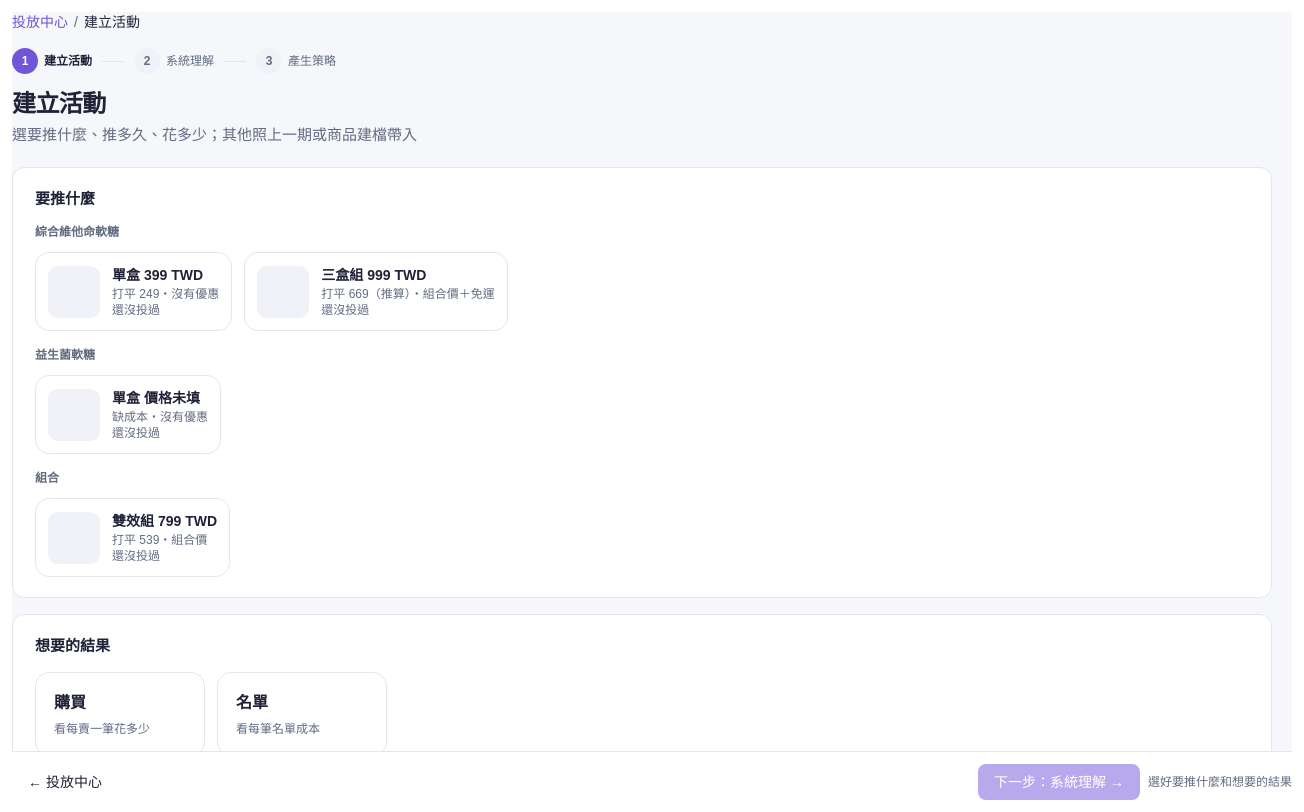
「期間、預算與平台」 starts from the previous campaign (F46-I08, prototype f46-learnings #/new) › a sell-way never run: the brand's account, 打平線 for the cap, an empty budget 「第一次推，要自己填」 and the no-learning strip
What coordinates should you click on to do the following:
click the radio button labelled "三盒組 999 TWD 打平 669（推算）・組合價＋免運 還沒投過"
I would click on:
 (376, 292)
Its box is top-left (244, 252), bottom-right (508, 331).
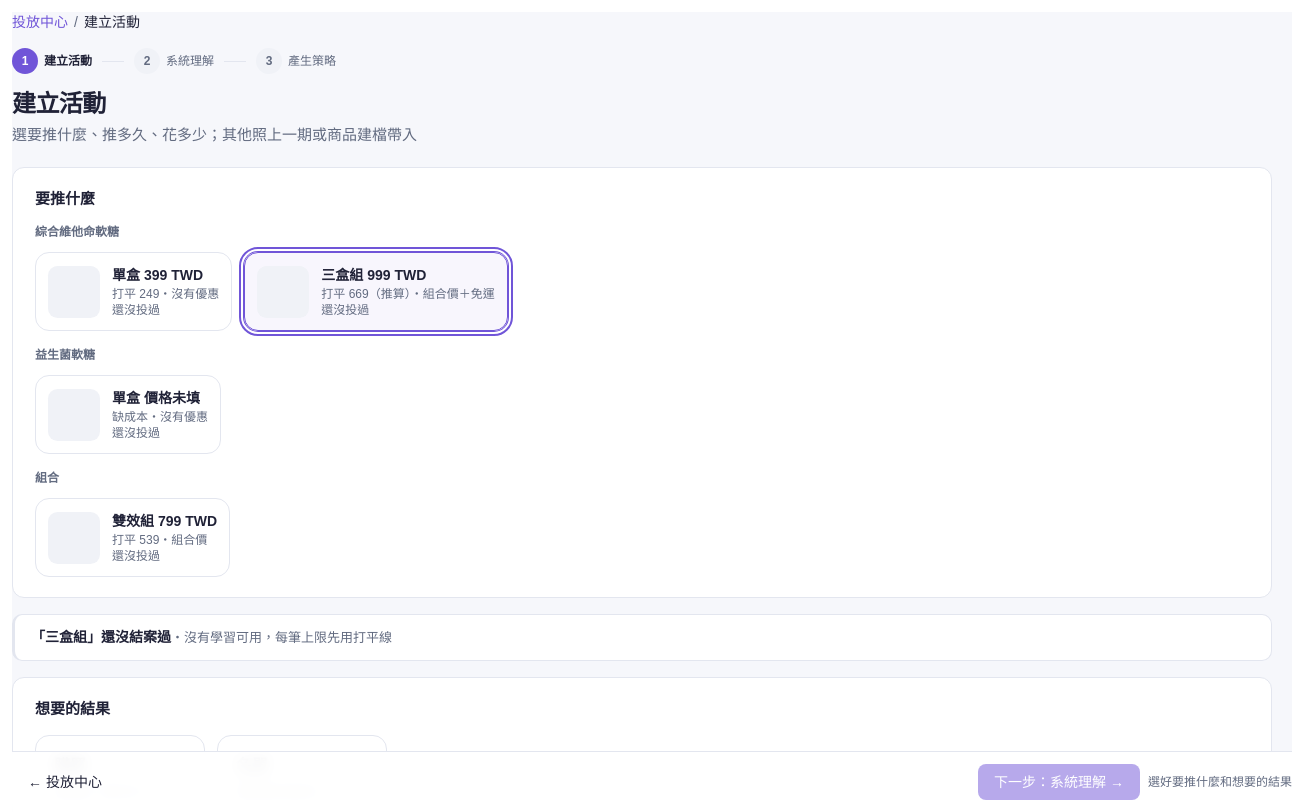
Now the element showing "「三盒組」還沒結案過・沒有學習可用，每筆上限先用打平線" is shown, box top-left (12, 614), bottom-right (1272, 661)
A sell-way with its own cap above nothing: 來自賣法.
What coordinates should you click on to do the following:
click the radio button labelled "雙效組 799 TWD 打平 539・組合價 還沒投過"
I would click on:
 (132, 538)
Its box is top-left (35, 498), bottom-right (230, 577).
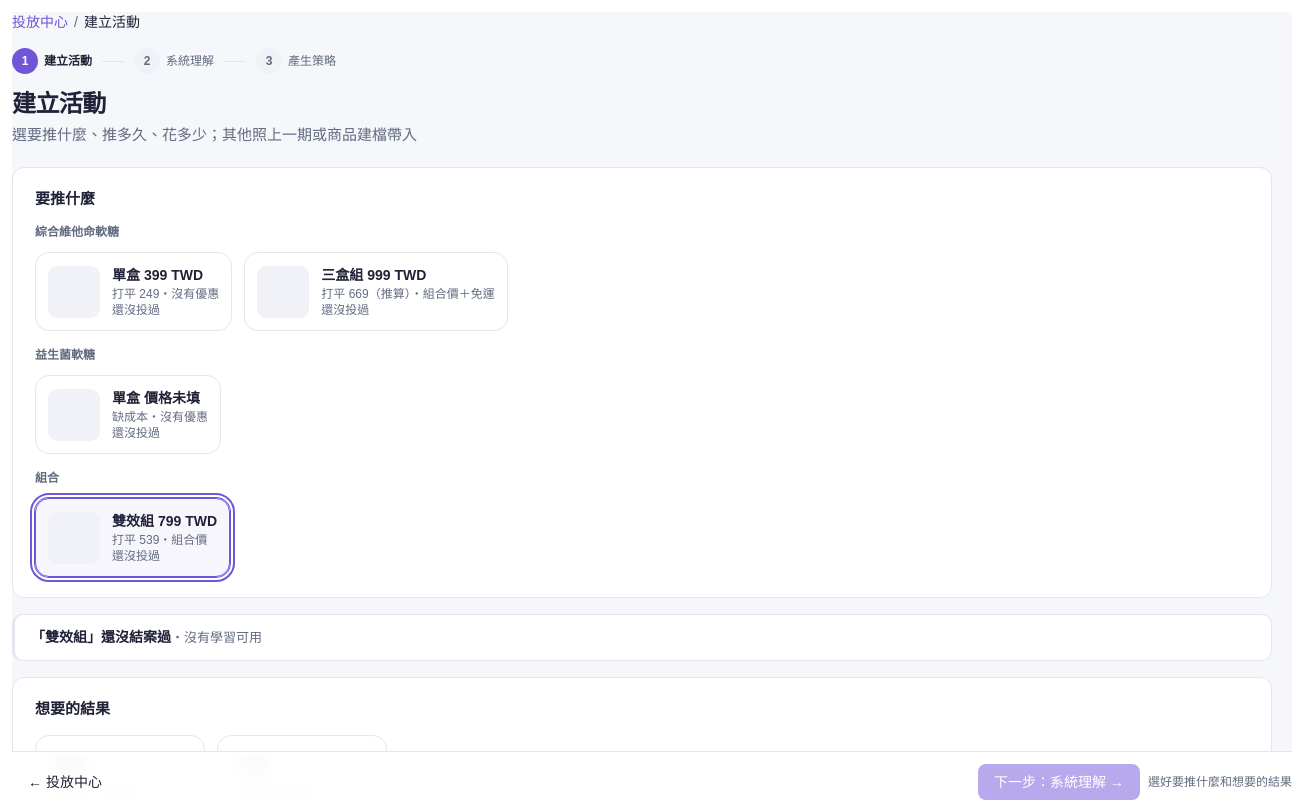
Now the element showing "「雙效組」還沒結案過・沒有學習可用" is shown, box top-left (12, 614), bottom-right (1272, 661)
